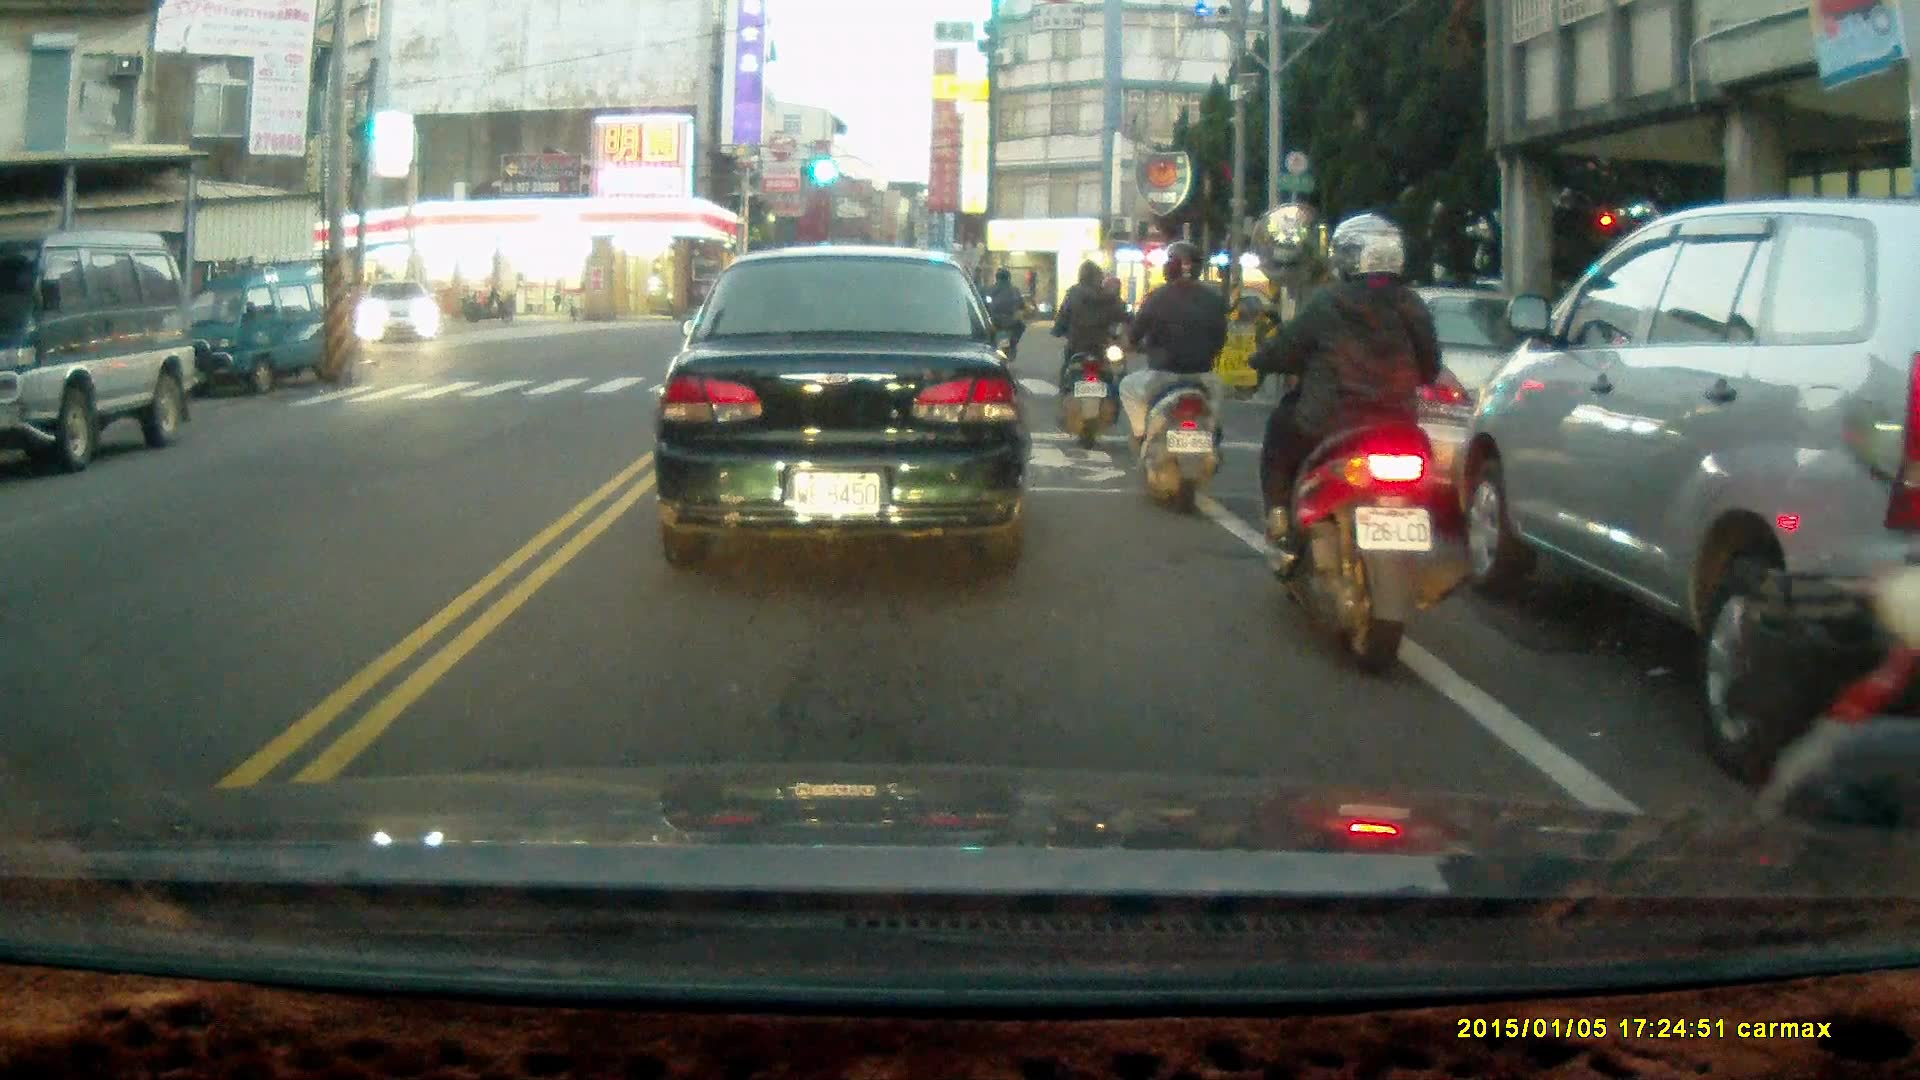rider: (1245, 211, 1473, 682), (1725, 394, 1920, 870), (1101, 244, 1233, 514), (1034, 261, 1123, 448), (980, 267, 1025, 368)
vehicle: (1438, 195, 1920, 772), (653, 245, 1032, 576), (1, 234, 192, 464), (168, 263, 350, 401), (362, 280, 444, 347)
